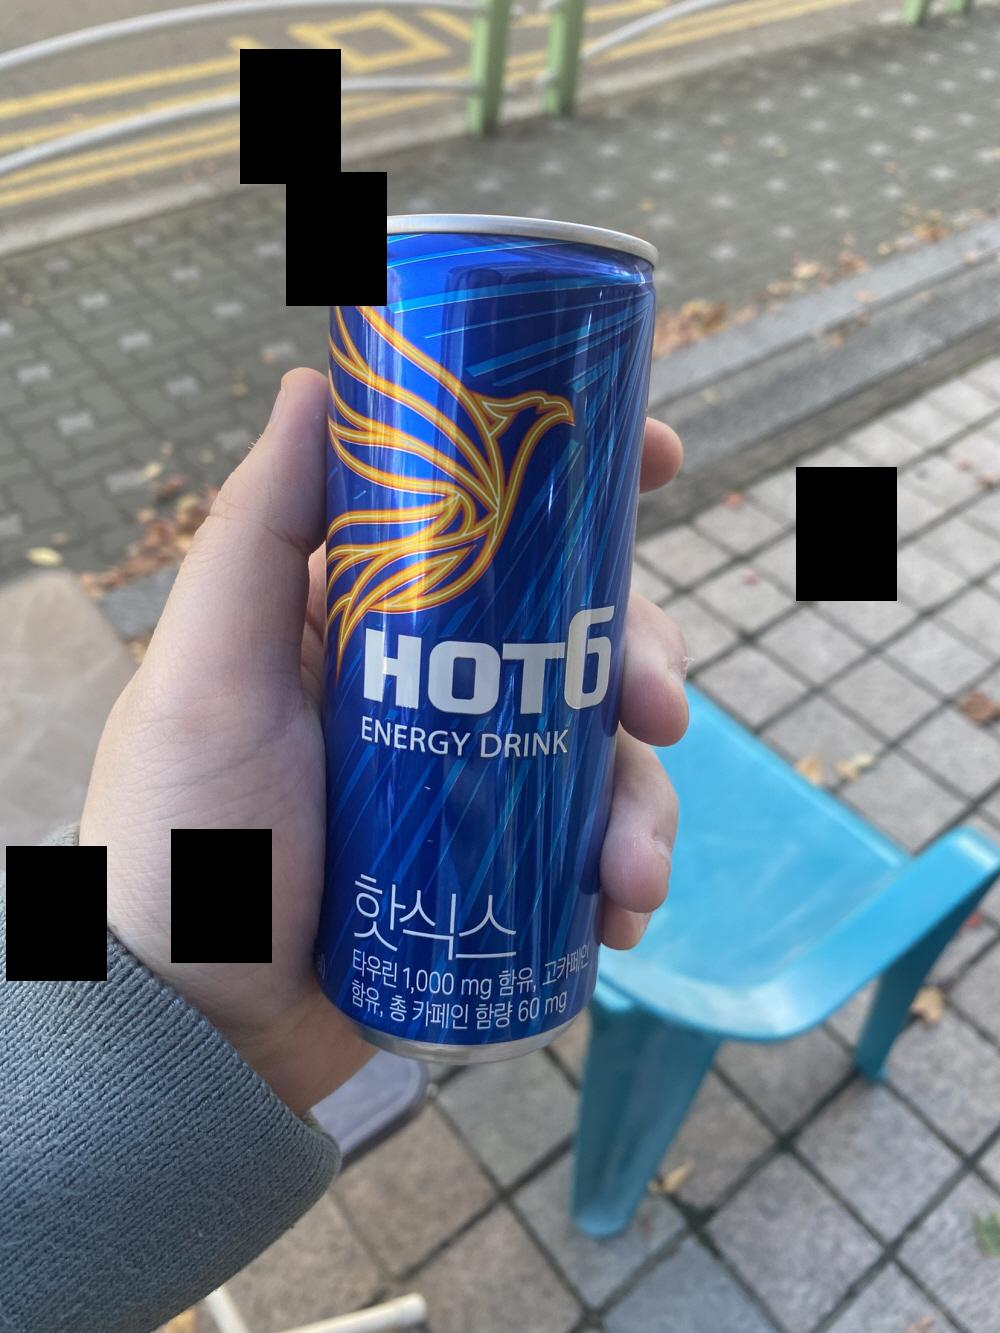hotsix_org: (308, 197, 651, 1048)
